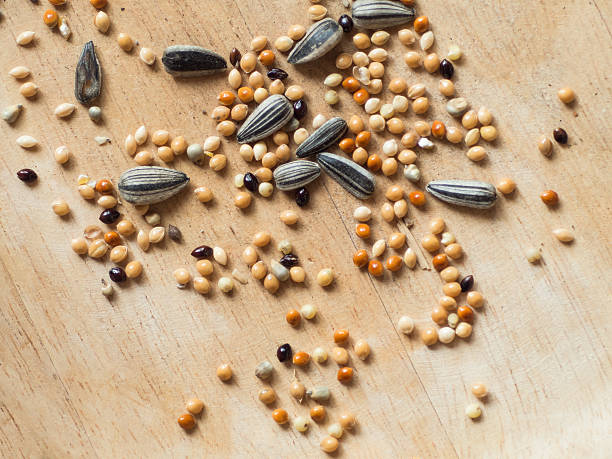seed: (1, 1, 612, 459)
